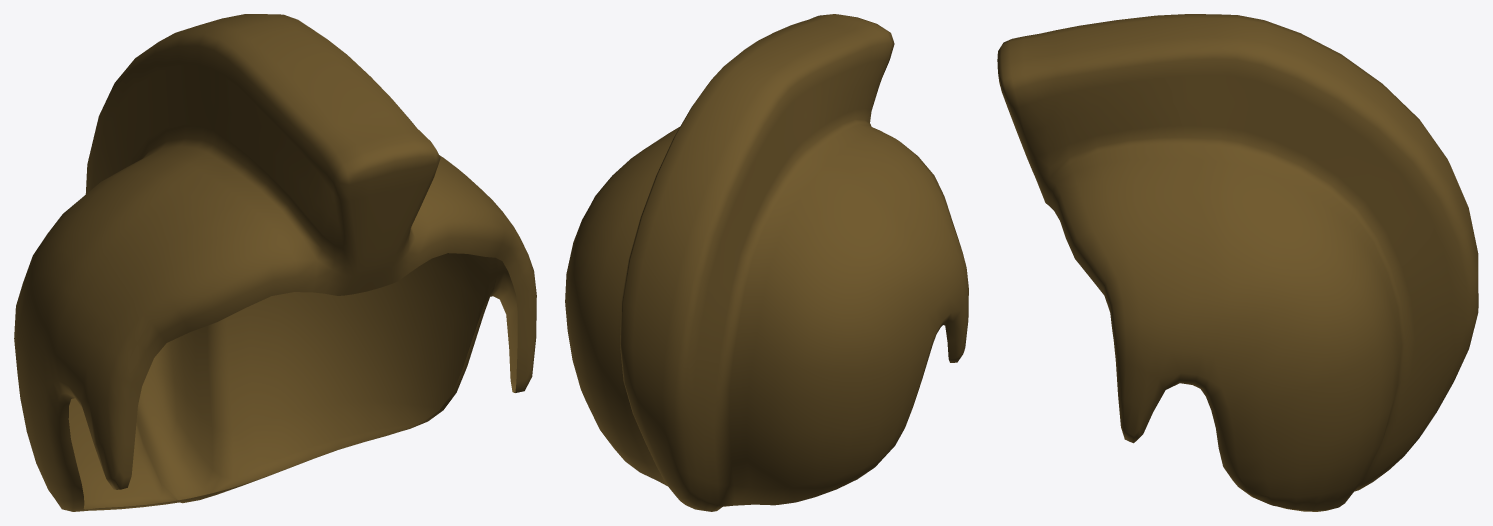
Rendered from Hair01.fbx.
The picture shows the model from 3 angles, left to right: view 1: azimuth 30°, elevation 25°; view 2: azimuth 150°, elevation 25°; view 3: azimuth 270°, elevation 25°; orthographic projection. The views are drawn at different scales.
Parts seen in each view (by area): view 1: Hair2; view 2: Hair2; view 3: Hair2.
Boxes of the visible parts, left/top/right/bottom form: Hair2: left=14, top=14, right=536, bottom=511; Hair2: left=565, top=14, right=968, bottom=511; Hair2: left=997, top=14, right=1478, bottom=511.
Bounding box in the file's own units: 12.1 × 13.53 × 12.83.
